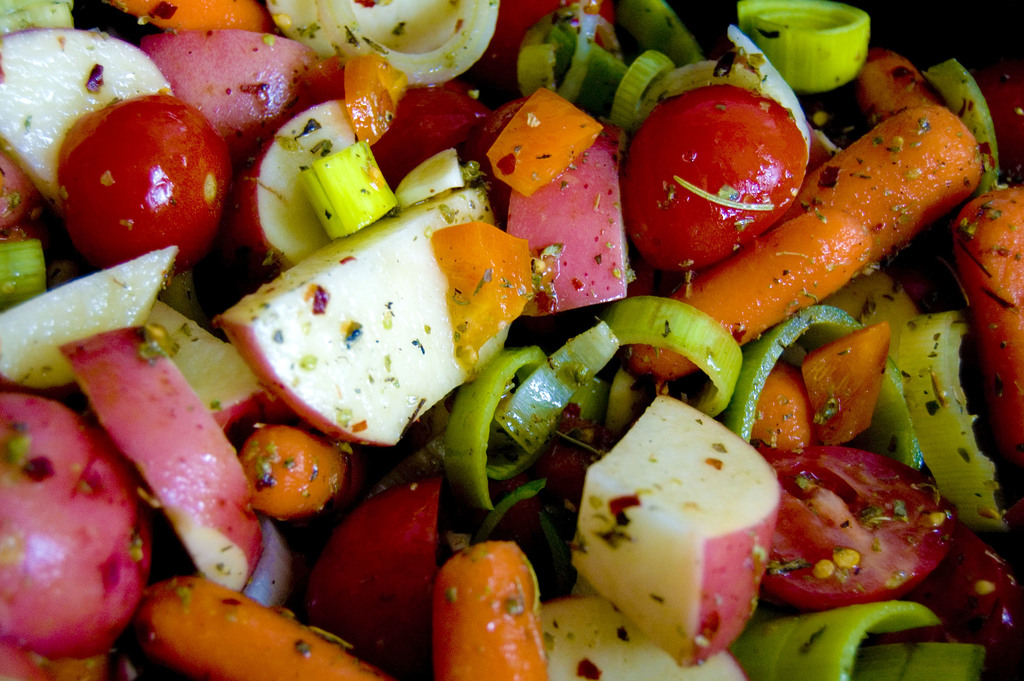Carrot: (628, 208, 870, 380), (776, 103, 984, 267), (134, 576, 393, 680), (951, 184, 1023, 461), (430, 541, 544, 681), (241, 424, 345, 520), (845, 51, 939, 121), (96, 0, 274, 31)
